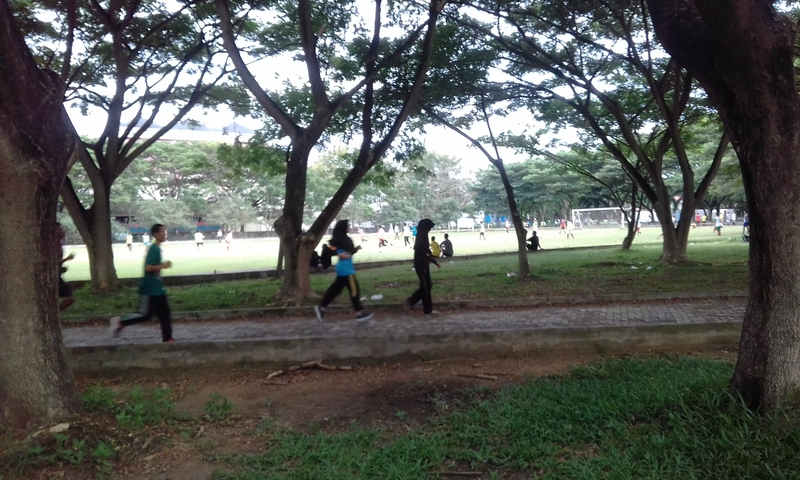person: (108, 219, 187, 350), (310, 217, 378, 331), (401, 215, 444, 322)
